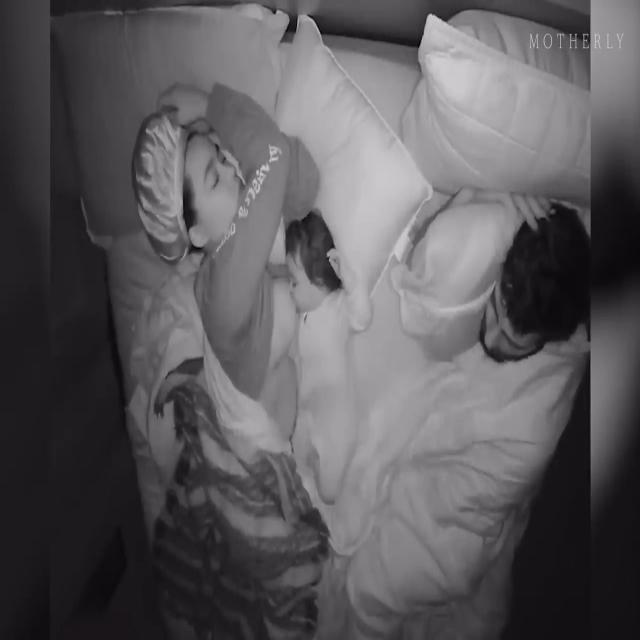baby: (283, 213, 368, 496)
